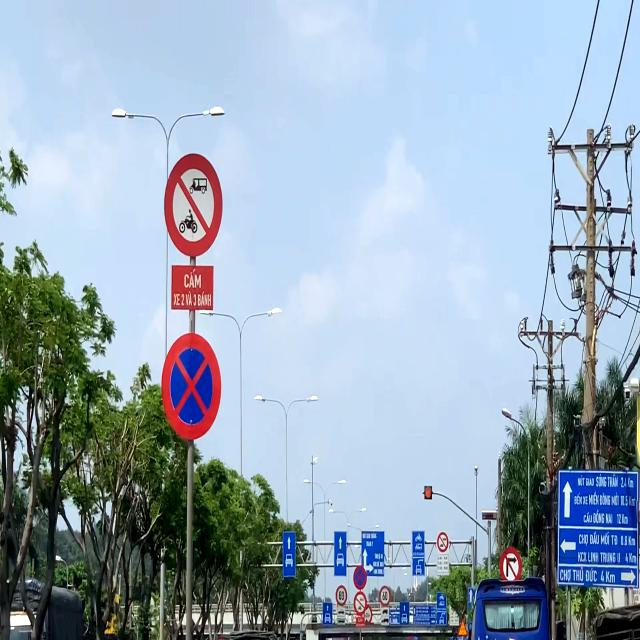P.123b: (500, 546, 522, 588)
P.127: (335, 584, 348, 606), (379, 585, 391, 607)
P.130: (161, 332, 222, 440), (353, 565, 367, 590)
S.509a: (458, 620, 468, 636)
